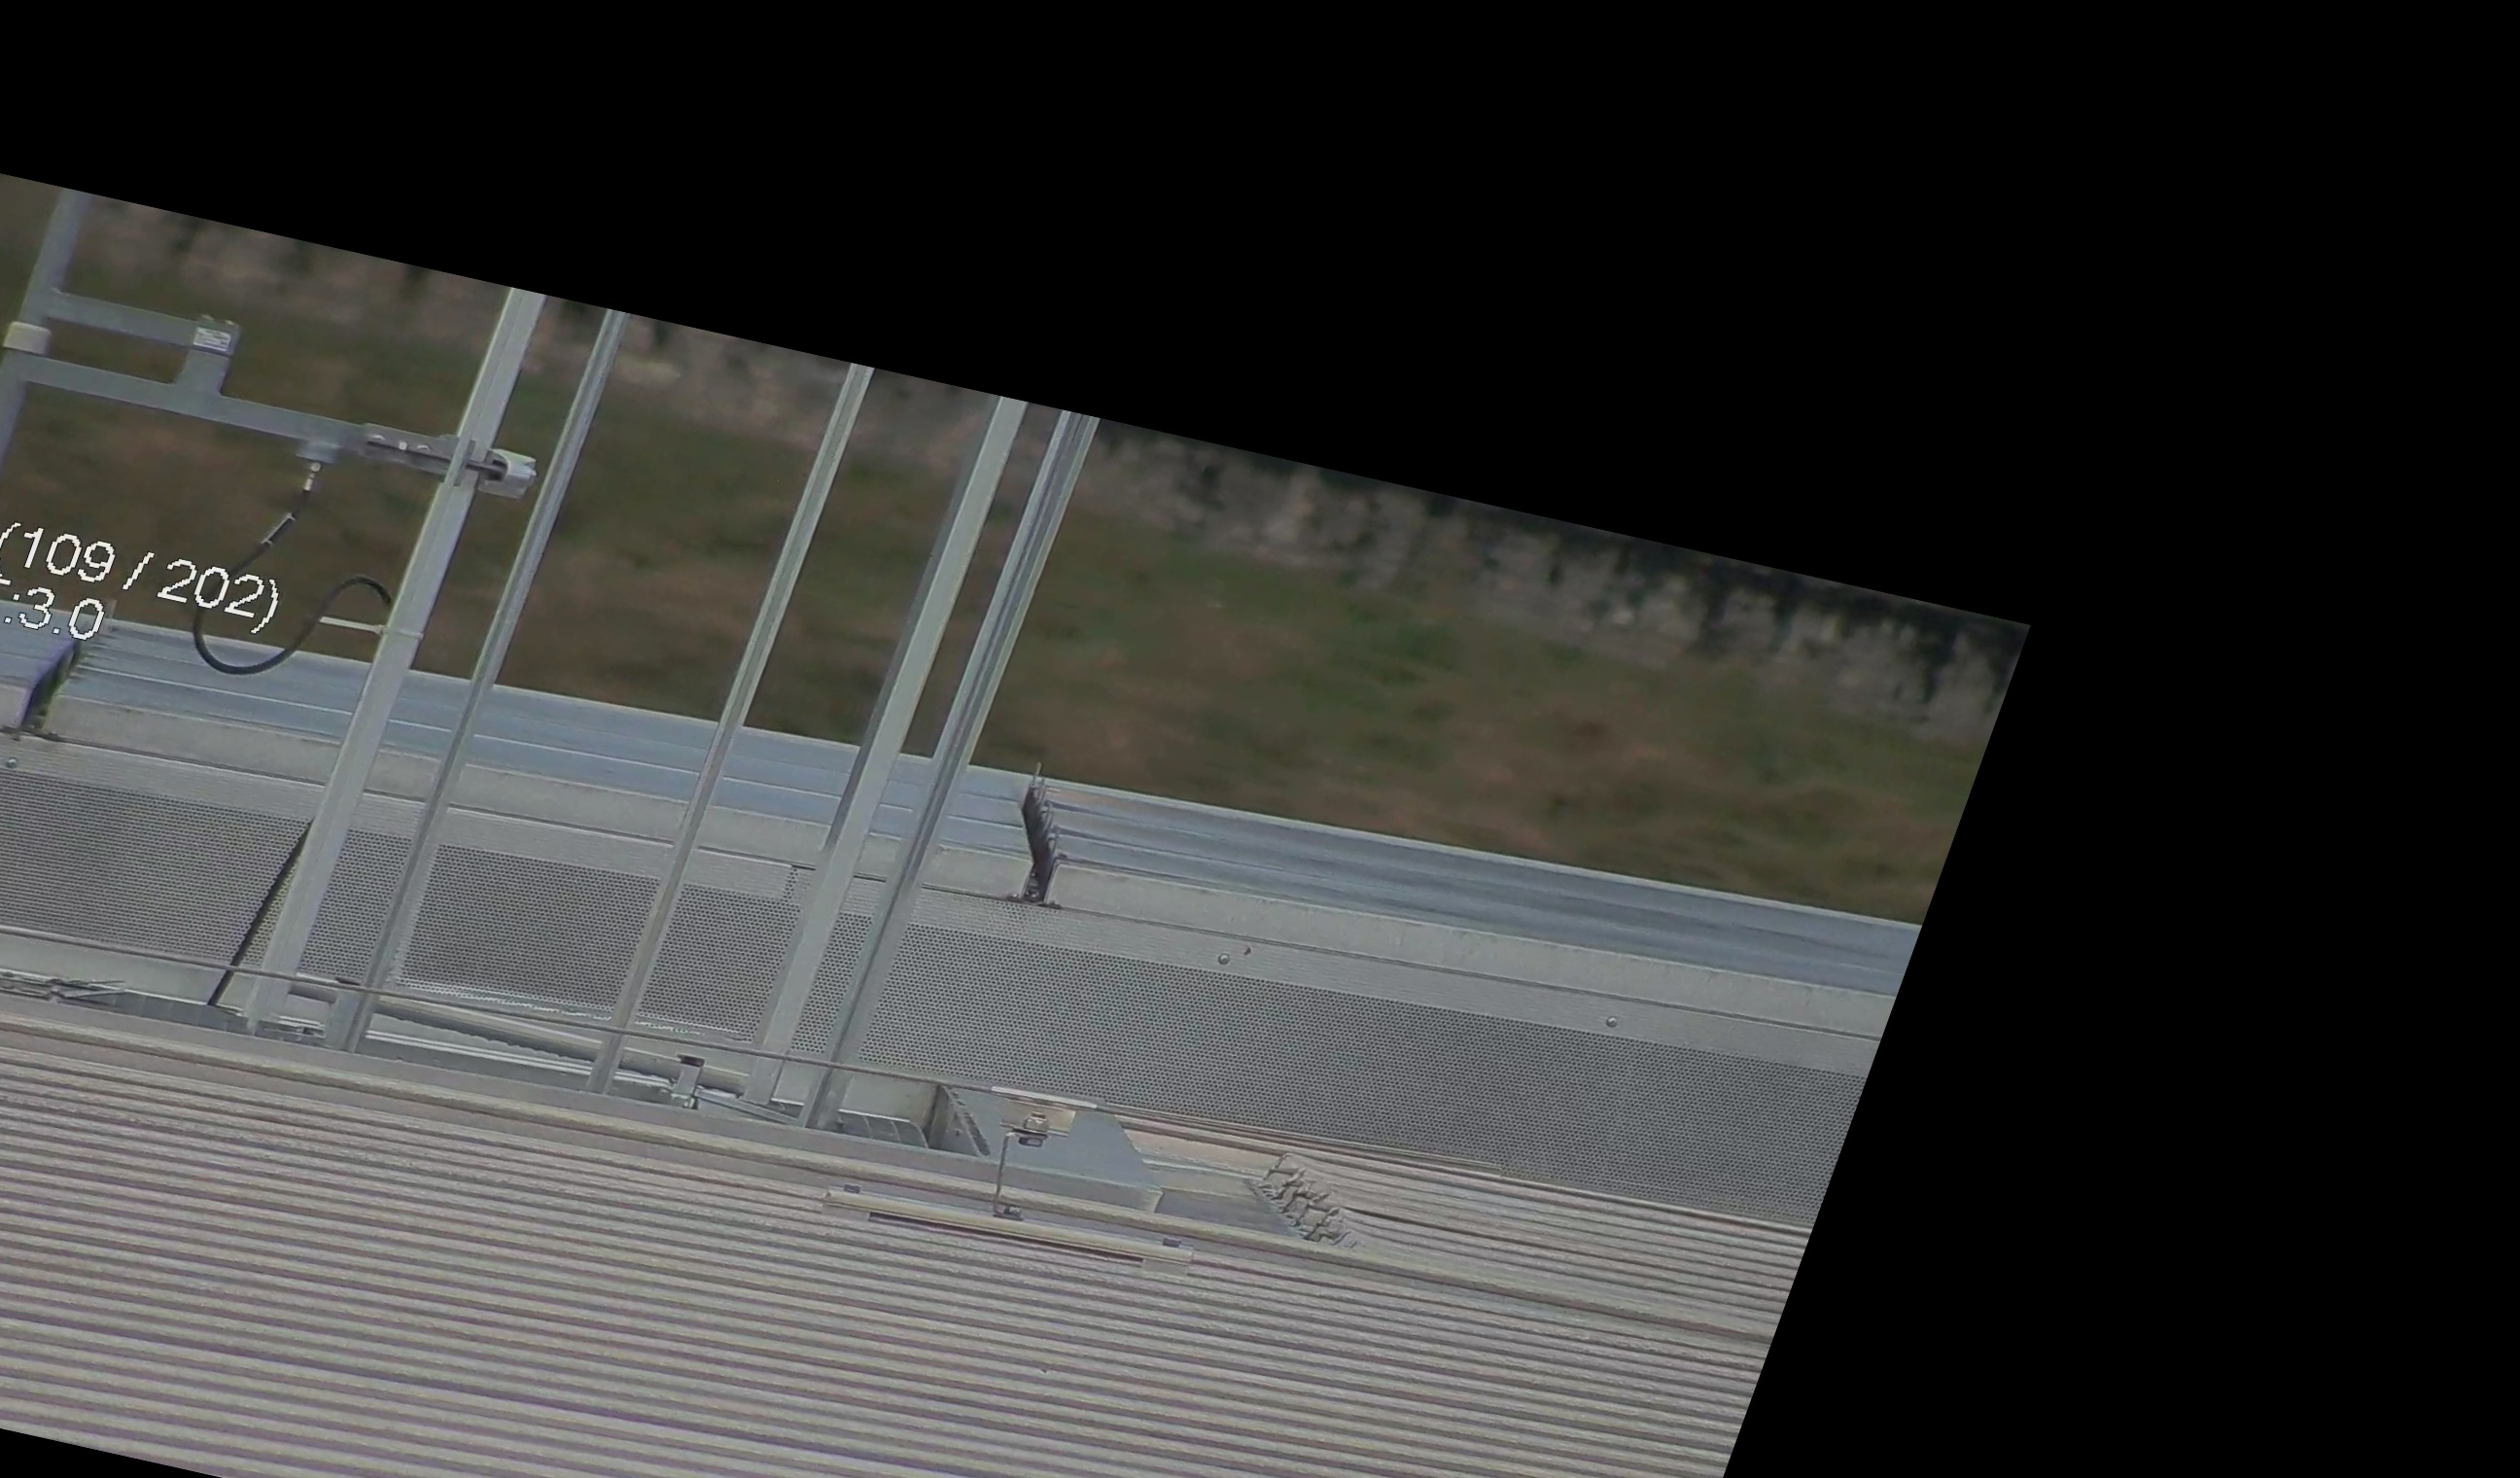Other: (964, 760, 1117, 917)
